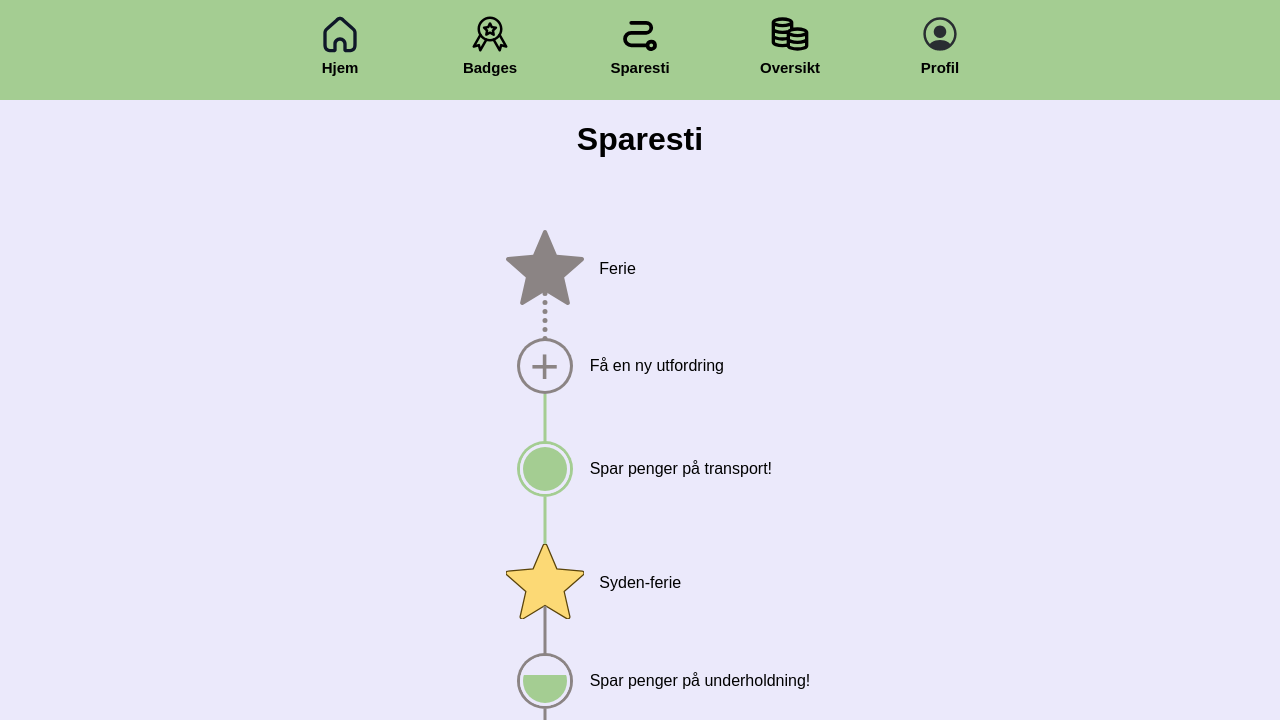
SparestiView › should able to see detailed goal information
Click the 1st element with class "star_with_line". click: (546, 270)
box: [506,230,585,309]
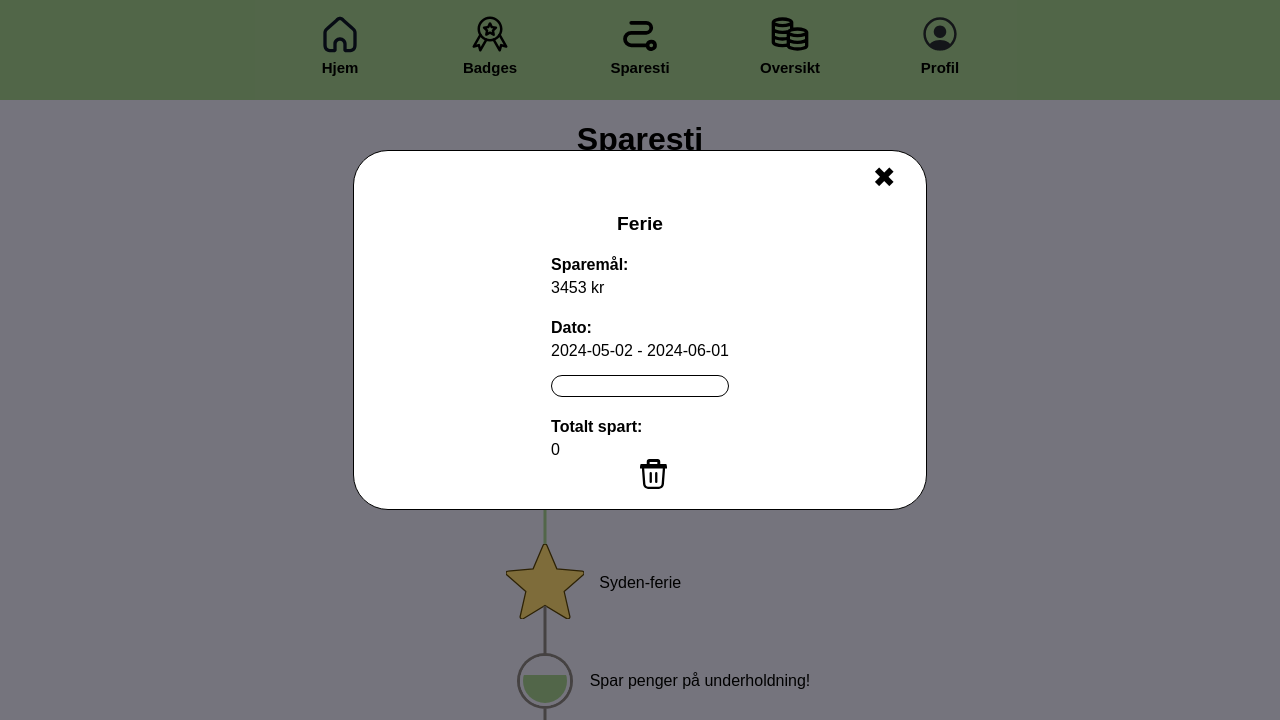
Check: the element with class "modal-wrapper" is shown, box [353,150,927,510]
Check: the heading with class "modal-wrapper" reads "Ferie", box [617,213,663,234]
Check: the heading with class "modal-wrapper" reads "Sparemål:", box [551,256,628,273]
